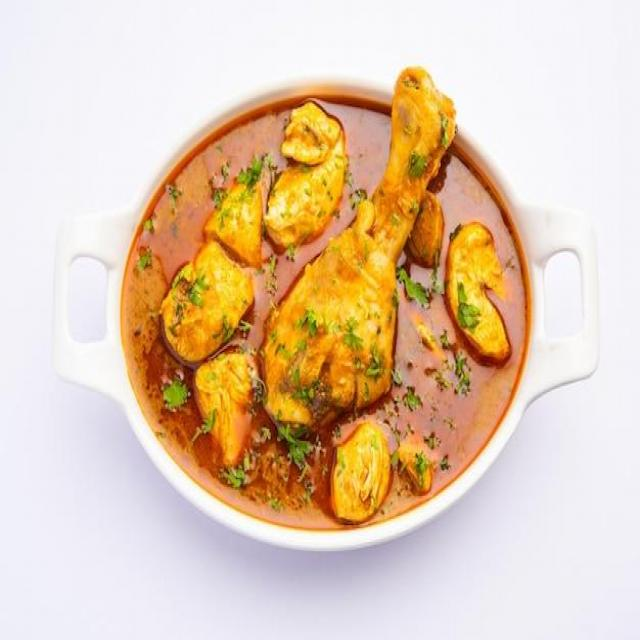chicken: (126, 82, 524, 530)
